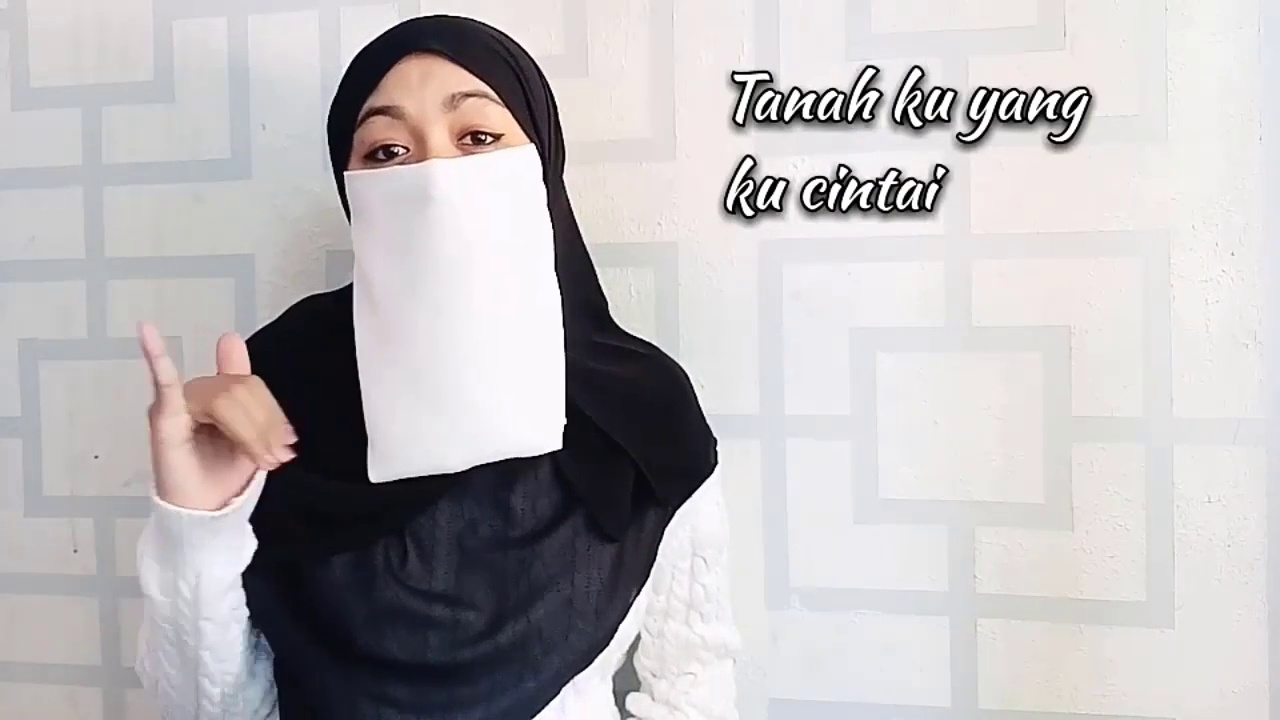YANG: (130, 320, 306, 521)
